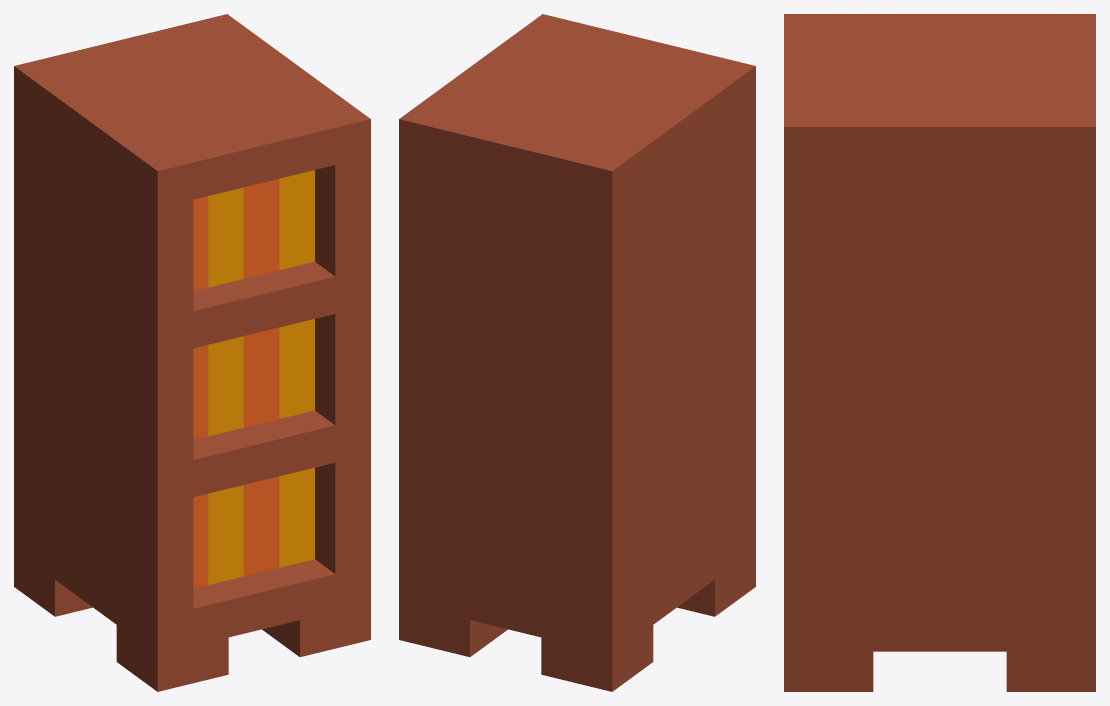
File: small_bookcase_a_yellow.obj
3 renders of one model, left to right at view 1: azimuth 30°, elevation 25°; view 2: azimuth 150°, elevation 25°; view 3: azimuth 270°, elevation 25°, orthographic. The views are drawn at different scales.
Size of the model in its own units: 0.6 by 1.4 by 0.7.
Materials: 1 (1 with a texture image).
